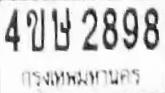2: (80, 7, 98, 50)
4: (4, 8, 19, 50)
8: (142, 6, 159, 49), (101, 7, 117, 49)
9: (122, 6, 138, 49)
A02: (24, 7, 44, 51)
A39: (50, 6, 70, 50)
BKK: (18, 63, 144, 92)
